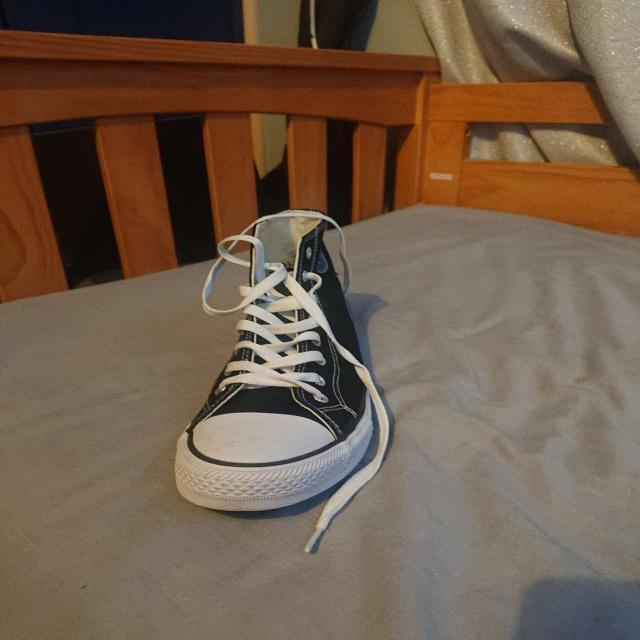shoe: (172, 207, 378, 513)
